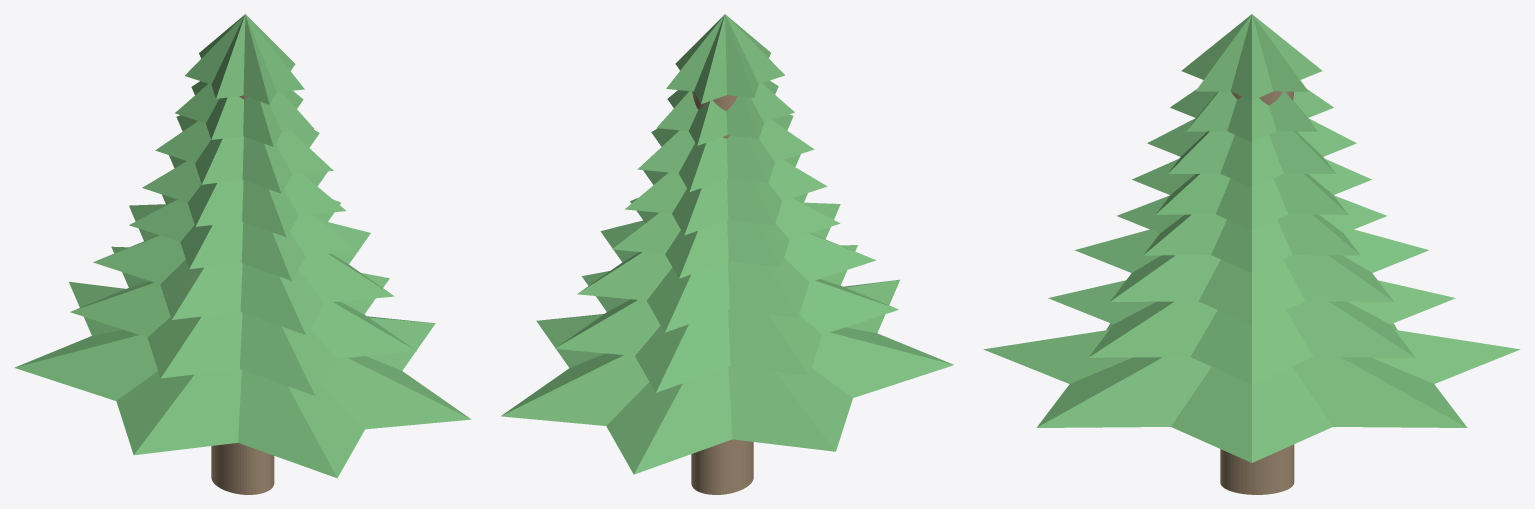
The model's file is tree.glb.
The picture shows the model from 3 angles, left to right: view 1: azimuth 30°, elevation 25°; view 2: azimuth 150°, elevation 25°; view 3: azimuth 270°, elevation 25°; orthographic projection.
Parts seen in each view (by area): view 1: Mesh_Mesh_head_geo.001_lambert2SG.001; view 2: Mesh_Mesh_head_geo.001_lambert2SG.001; view 3: Mesh_Mesh_head_geo.001_lambert2SG.001.
Boxes of the visible parts, x1=… form: Mesh_Mesh_head_geo.001_lambert2SG.001: x1=14, y1=14, x2=471, y2=494; Mesh_Mesh_head_geo.001_lambert2SG.001: x1=501, y1=14, x2=953, y2=494; Mesh_Mesh_head_geo.001_lambert2SG.001: x1=983, y1=14, x2=1520, y2=494.
Size of the model in its own units: 70 by 86.5 by 90.
